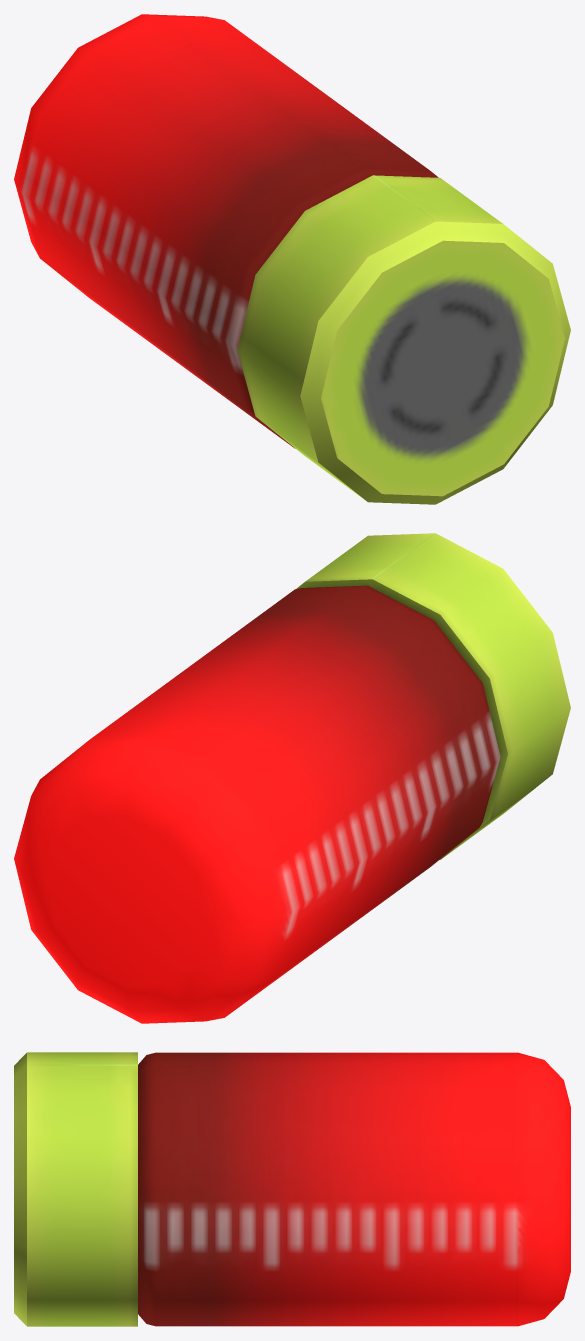
Rendered from BulletNM.fbx.
3 views of the same model, one above another, from view 1: azimuth 30°, elevation 25°; view 2: azimuth 150°, elevation 25°; view 3: azimuth 270°, elevation 25° (orthographic). The views are drawn at different scales.
Visible parts, largest first — view 1: Bullet_BrainController; view 2: Bullet_BrainController; view 3: Bullet_BrainController.
Boxes of the visible parts, <box> form: Bullet_BrainController: <box>14,14,570,504</box>; Bullet_BrainController: <box>14,533,570,1023</box>; Bullet_BrainController: <box>14,1052,570,1326</box>.
Bounding box in the file's own units: 0.0825 × 0.0825 × 0.1668.
